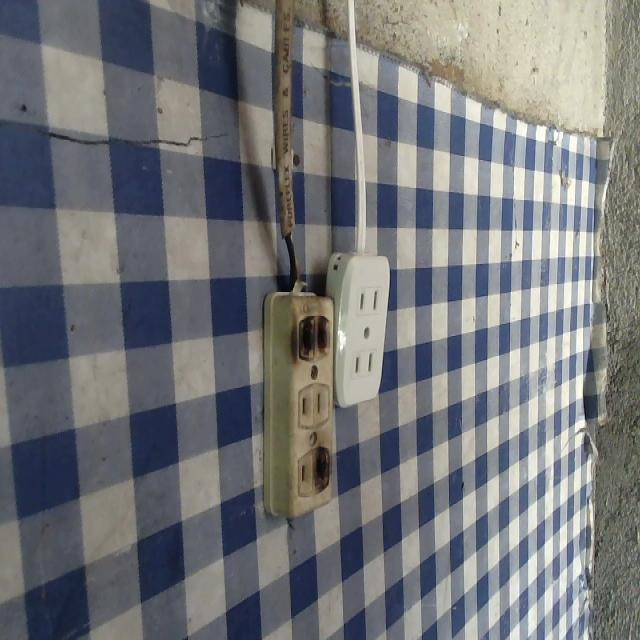-: (292, 311, 333, 365), (310, 443, 332, 496)
